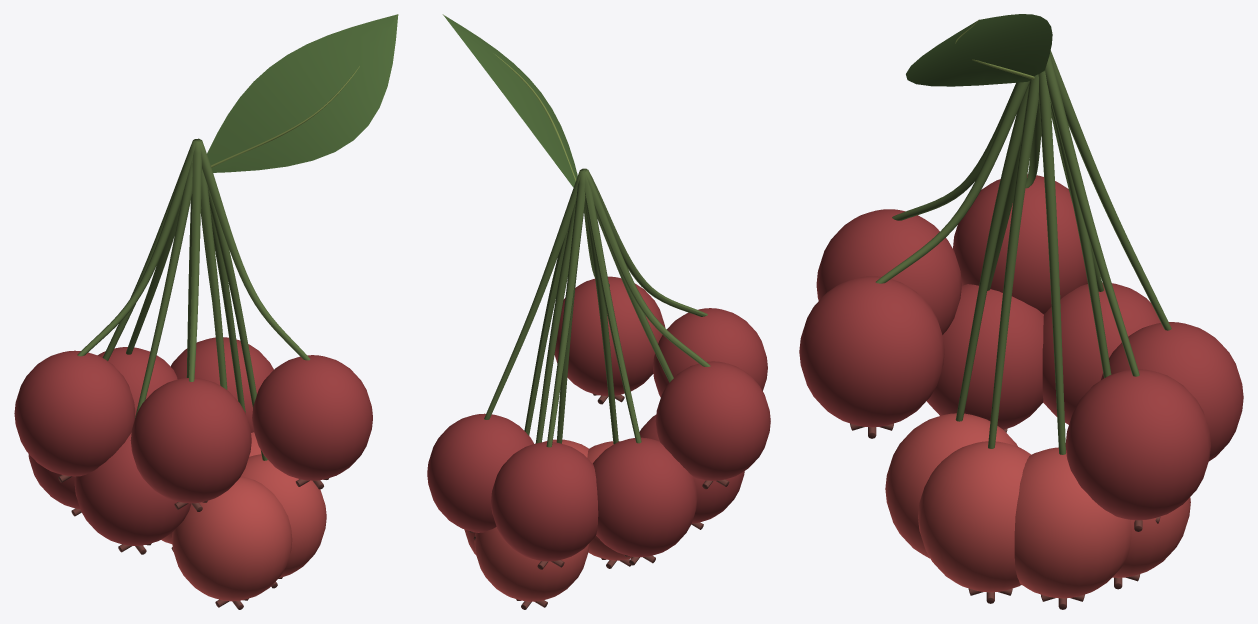
File: props_p3_items__p3_berries.glb
The picture shows the model from 3 angles, left to right: view 1: azimuth 30°, elevation 25°; view 2: azimuth 150°, elevation 25°; view 3: azimuth 270°, elevation 25°; orthographic projection. The views are drawn at different scales.
Visible parts, largest first — view 1: reference_static_surfaces (×4), berry_leaf; view 2: reference_static_surfaces (×4), berry_leaf; view 3: reference_static_surfaces (×4), berry_leaf.
Boxes of the visible parts, box(x1,y1,x2,y2) form: reference_static_surfaces (×4): box(14, 138, 372, 609); berry_leaf: box(207, 14, 398, 172); reference_static_surfaces (×4): box(427, 168, 770, 609); berry_leaf: box(443, 15, 577, 187); reference_static_surfaces (×4): box(799, 50, 1243, 609); berry_leaf: box(906, 14, 1052, 86).
Size of the model in its own units: 0.0678 by 0.0983 by 0.0609.
